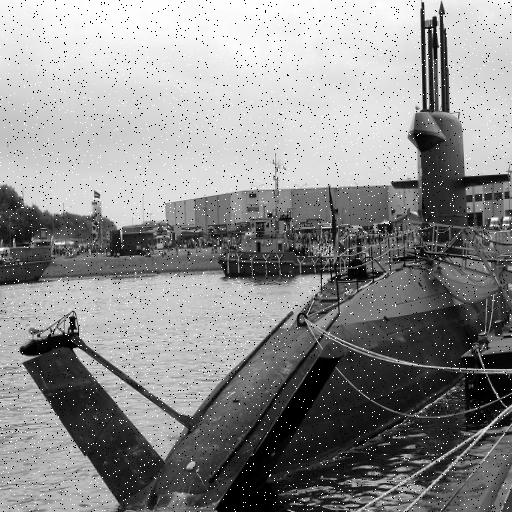submarine: (23, 109, 512, 512)
